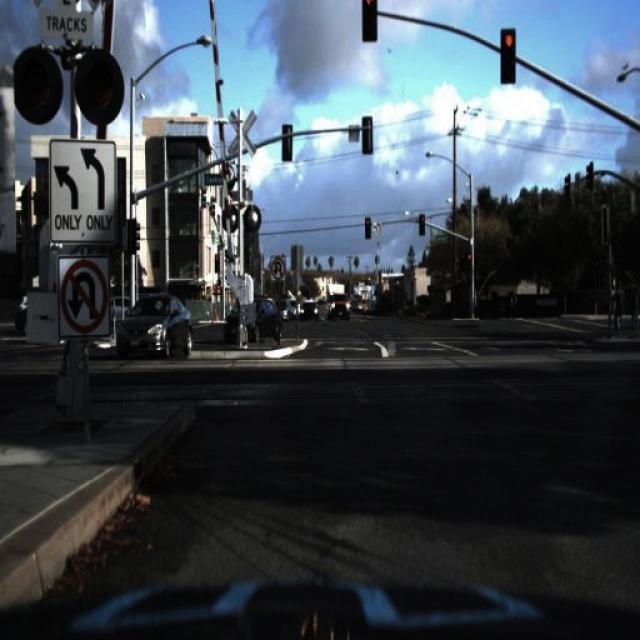semaforo: (499, 31, 516, 84)
